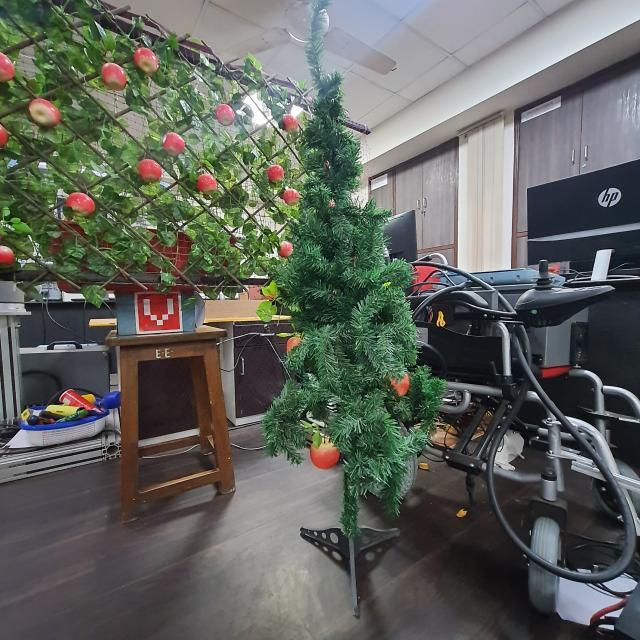Tree: (282, 86, 409, 595)
